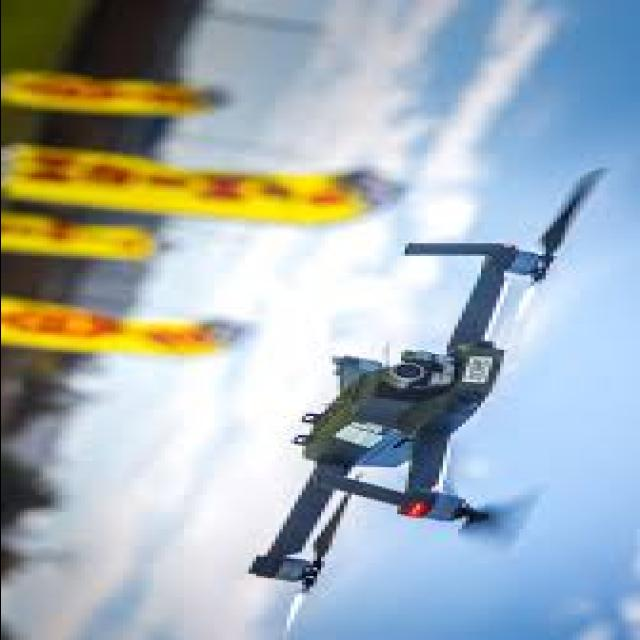drone: (225, 170, 614, 640)
